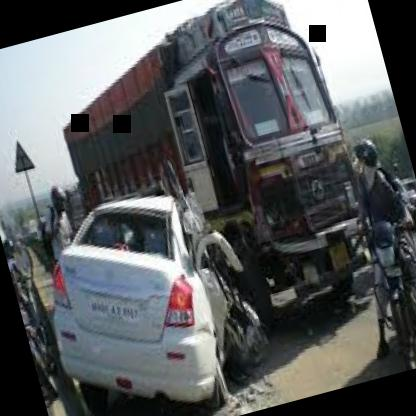accident: (11, 101, 377, 416)
